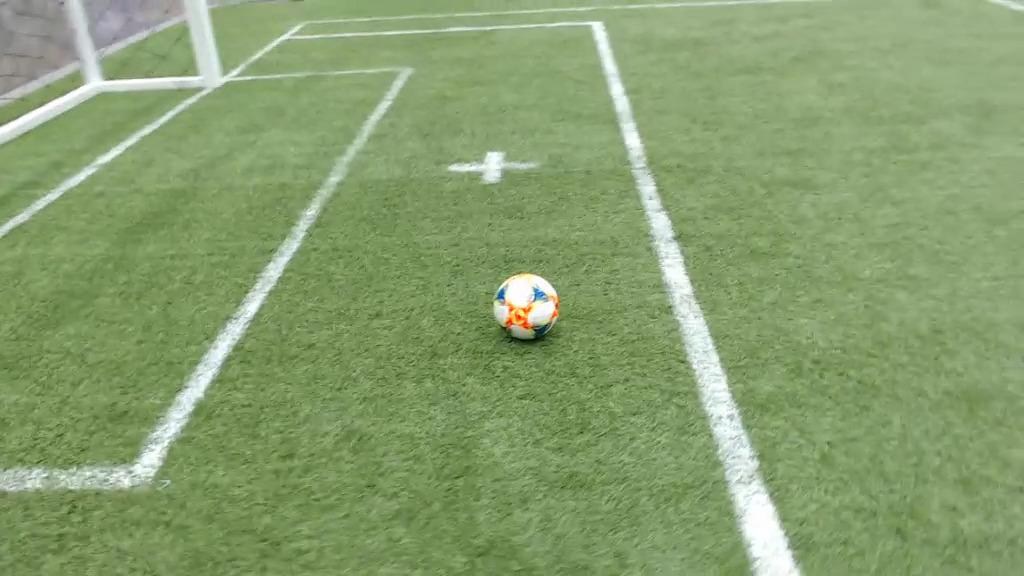ball: (493, 272, 559, 340)
